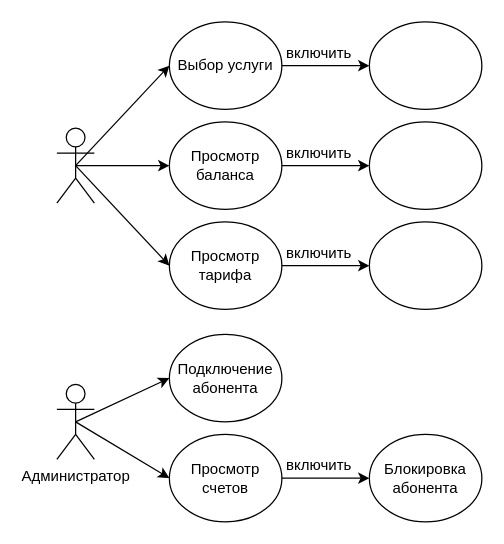
Image size: 504x544. Some labels were removed from this diagram. Each missing label, with the box of its shape:
Абонент: (56, 127, 94, 203)
Оплата услуги: (368, 21, 482, 109)
Просмотр задолженности: (368, 121, 482, 209)
Смена тарифа: (368, 221, 482, 309)
